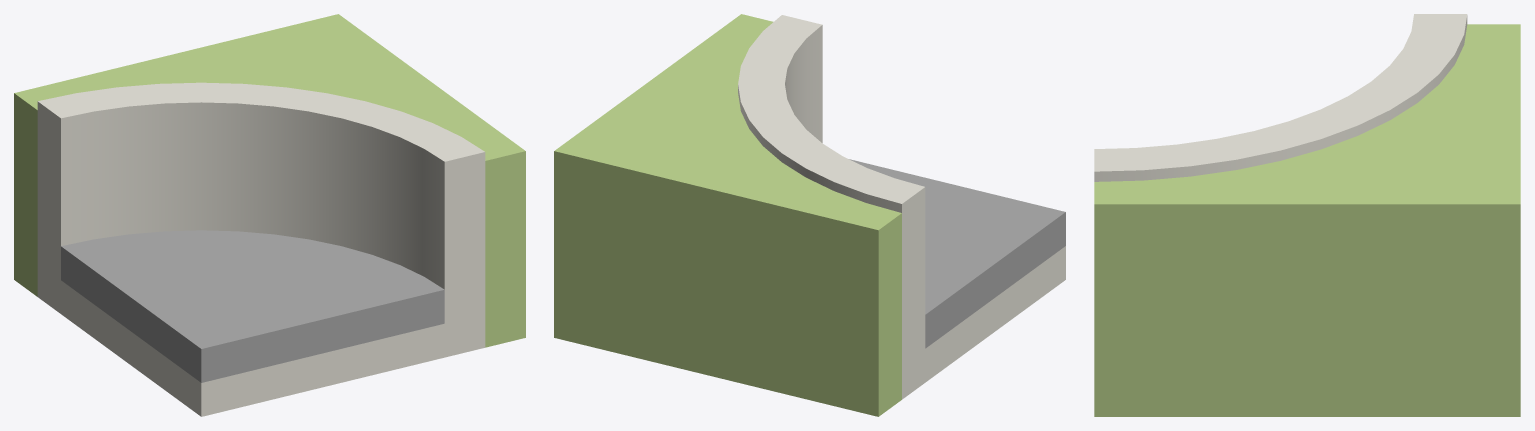
Rendered from tile244.glb.
3 renders of one model, left to right at view 1: azimuth 30°, elevation 25°; view 2: azimuth 150°, elevation 25°; view 3: azimuth 270°, elevation 25°, orthographic. The views are drawn at different scales.
Parts seen in each view (by area): view 1: tile244; view 2: tile244; view 3: tile244.
Boxes of the visible parts, <box> form: tile244: <box>14,14,525,416</box>; tile244: <box>554,14,1065,416</box>; tile244: <box>1094,14,1520,416</box>.
Size of the model in its own units: 1 by 0.5767 by 1.
